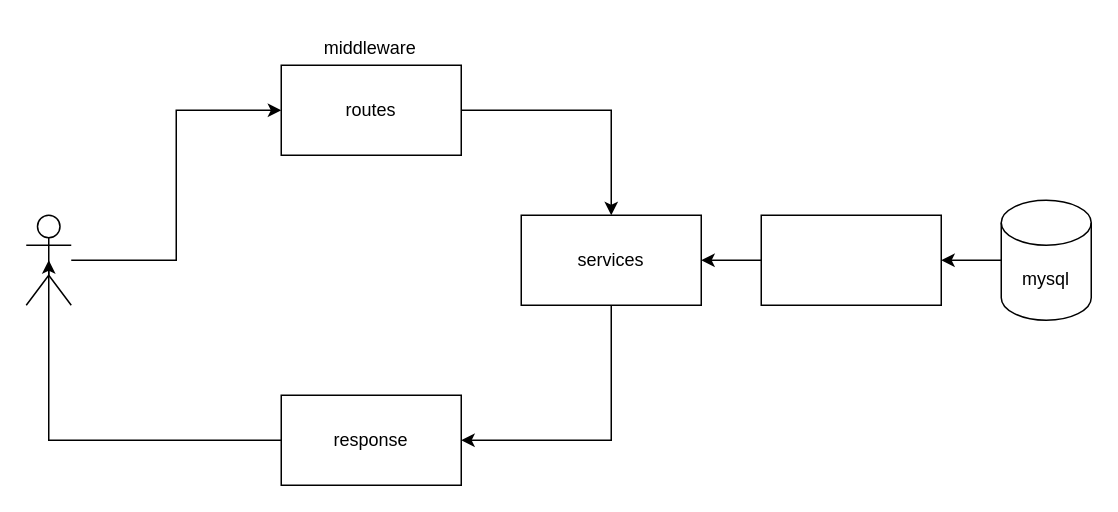
This 1118x512 diagram has some shape labels left out. The box of each missing label's shape, as (x1, y1, x2, y2) in pixels:
Actor: (25, 214, 71, 305)
models: (760, 214, 941, 305)
